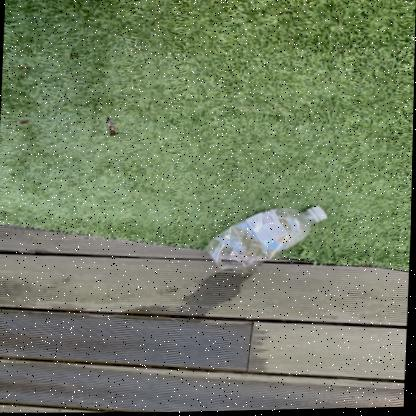Plastic: (207, 206, 327, 269)
